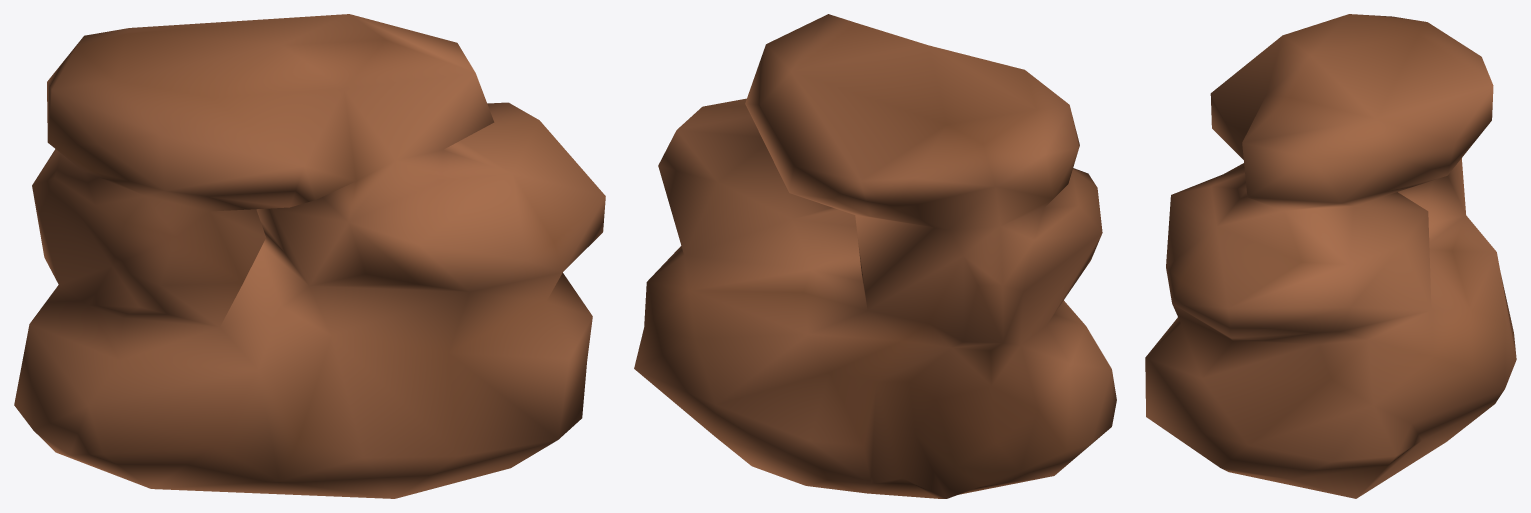
The model's file is Cliffs_3_Desert_Village.fbx.
3 views of the same model, side by side, from view 1: azimuth 30°, elevation 25°; view 2: azimuth 150°, elevation 25°; view 3: azimuth 270°, elevation 25° (orthographic). The views are drawn at different scales.
Visible parts, largest first — view 1: Cliffs_3_Desert Village; view 2: Cliffs_3_Desert Village; view 3: Cliffs_3_Desert Village.
Part boxes in pixels (left/top/right/bottom): Cliffs_3_Desert Village: left=14, top=14, right=605, bottom=498; Cliffs_3_Desert Village: left=634, top=14, right=1116, bottom=498; Cliffs_3_Desert Village: left=1145, top=14, right=1516, bottom=498.
Size of the model in its own units: 932 by 808 by 763.
